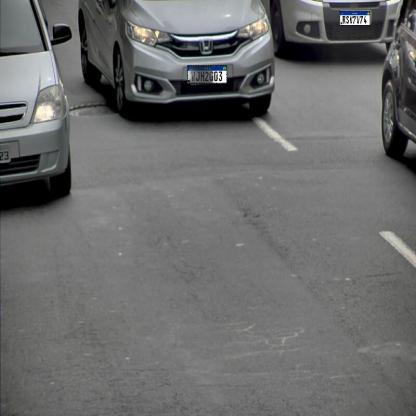PlacaM: (187, 65, 227, 84), (340, 11, 370, 26)
